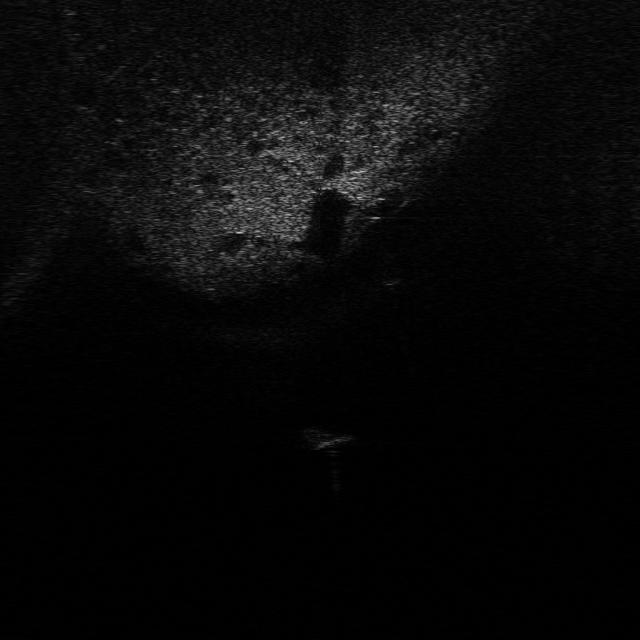ball: (372, 254, 407, 286)
cube: (300, 422, 354, 451)
